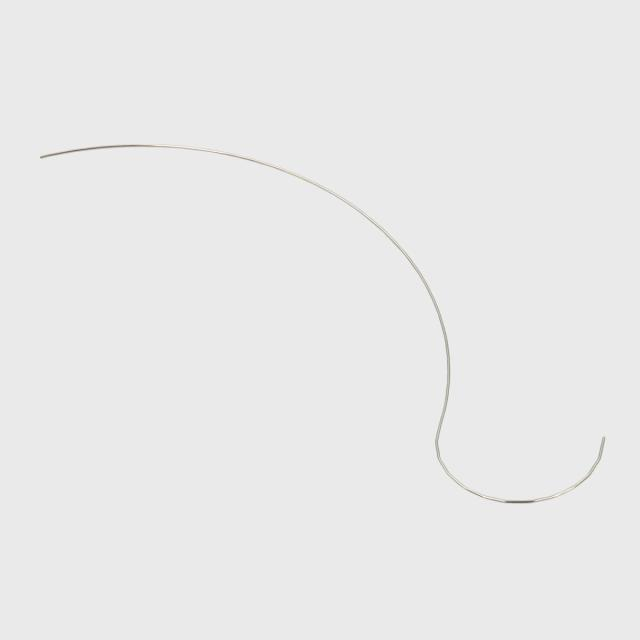hair: (26, 127, 621, 514)
